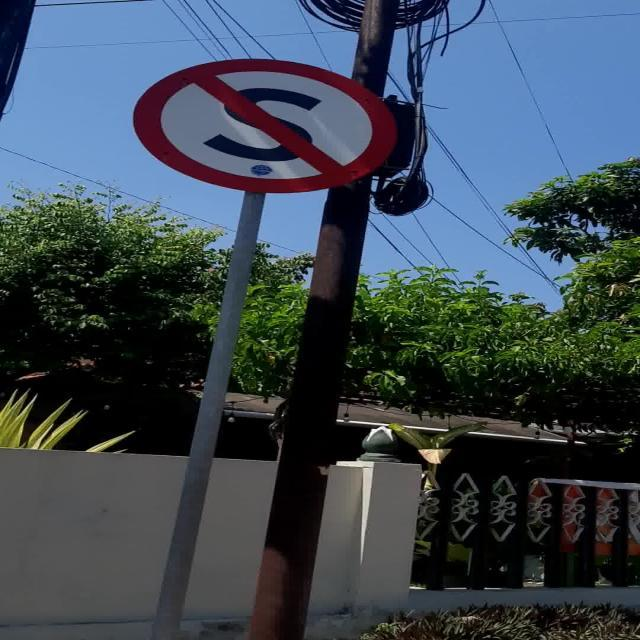Dilarang Berhenti: (133, 58, 397, 194)
